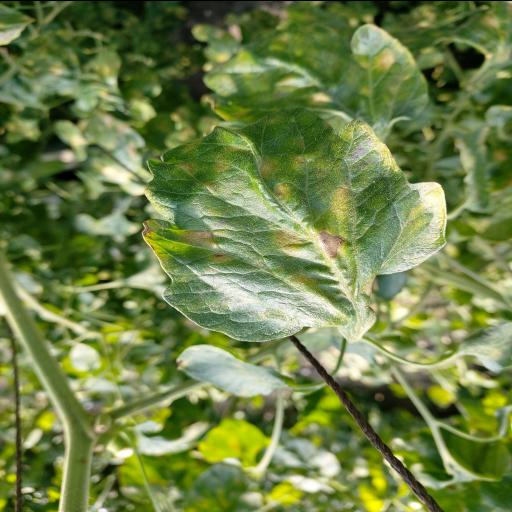disease_tomato: (140, 105, 450, 341)
